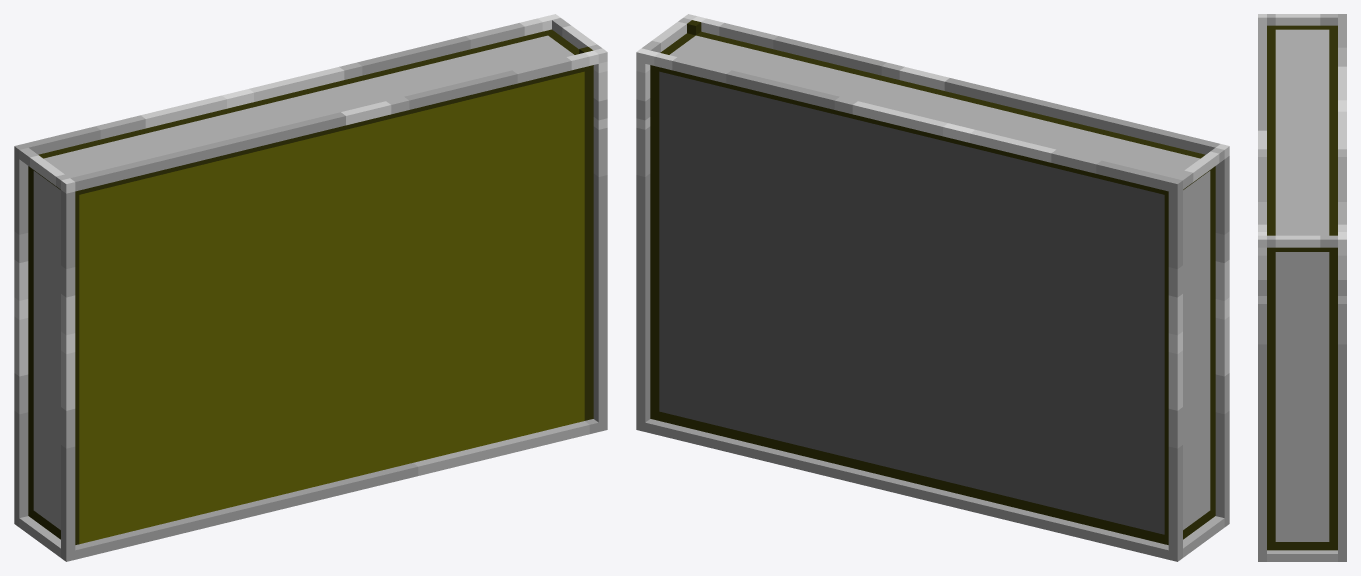
The model's file is Barraks Wall 5.obj.
The picture shows the model from 3 angles, left to right: view 1: azimuth 30°, elevation 25°; view 2: azimuth 150°, elevation 25°; view 3: azimuth 270°, elevation 25°; orthographic projection. The views are drawn at different scales.
Size of the model in its own units: 60 by 40 by 10.
Materials: 1 (1 with a texture image).
